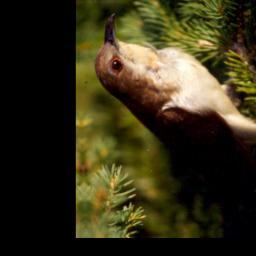Cuckoo: (91, 7, 256, 228)
